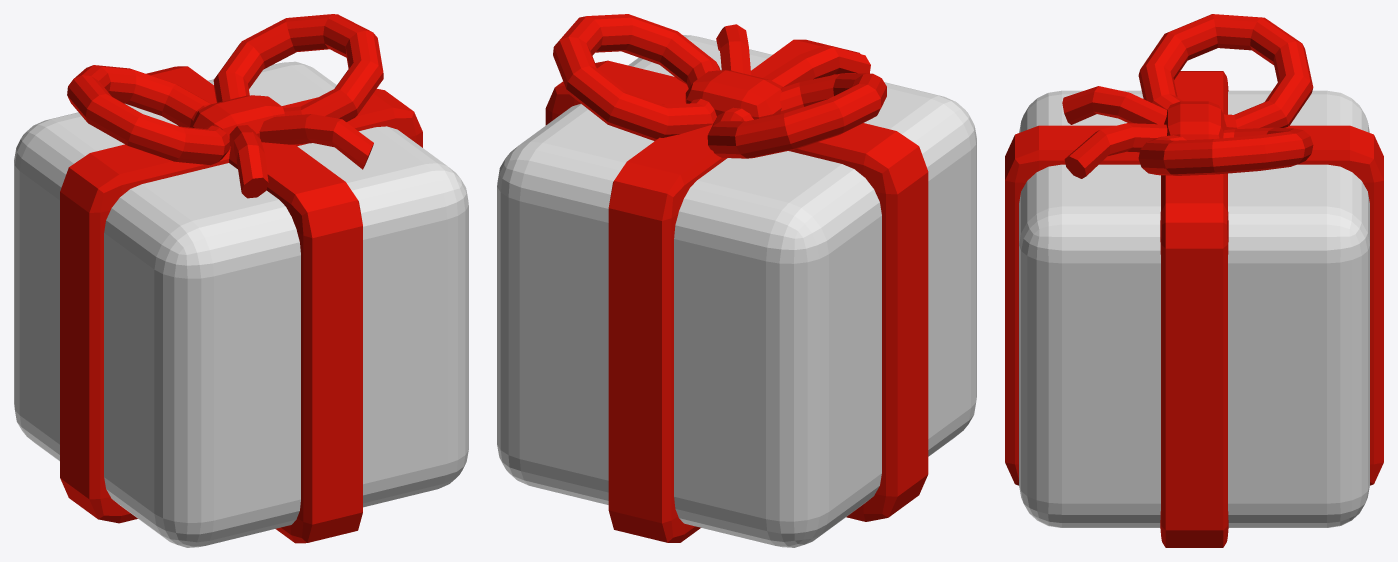
The model's file is present.fbx.
3 views of the same model, side by side, from view 1: azimuth 30°, elevation 25°; view 2: azimuth 150°, elevation 25°; view 3: azimuth 270°, elevation 25° (orthographic). The views are drawn at different scales.
Parts seen in each view (by area): view 1: Cube, トーラス.002; view 2: Cube, トーラス.002; view 3: Cube, トーラス.002.
Part boxes in pixels (<box>): Cube: <box>14,61,468,547</box>; トーラス.002: <box>60,14,422,543</box>; Cube: <box>497,35,976,547</box>; トーラス.002: <box>545,14,928,542</box>; Cube: <box>1019,90,1369,527</box>; トーラス.002: <box>1005,14,1383,547</box>.
Bounding box in the file's own units: 108 × 127 × 108.
